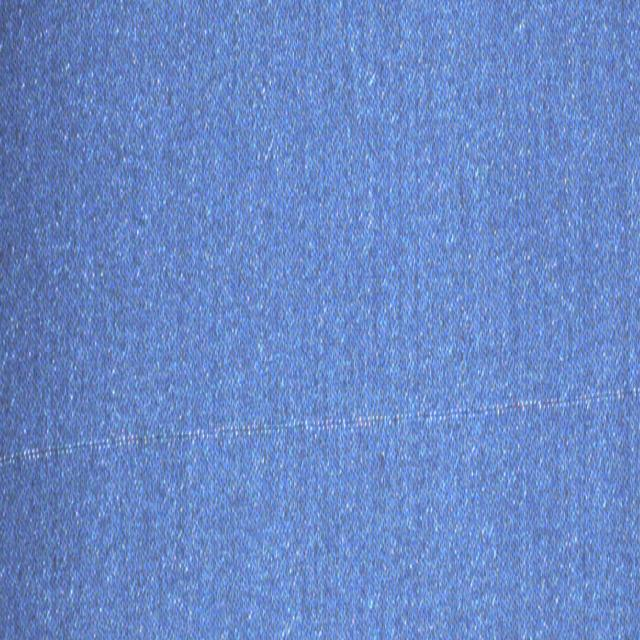Line: (0, 382, 640, 467)
